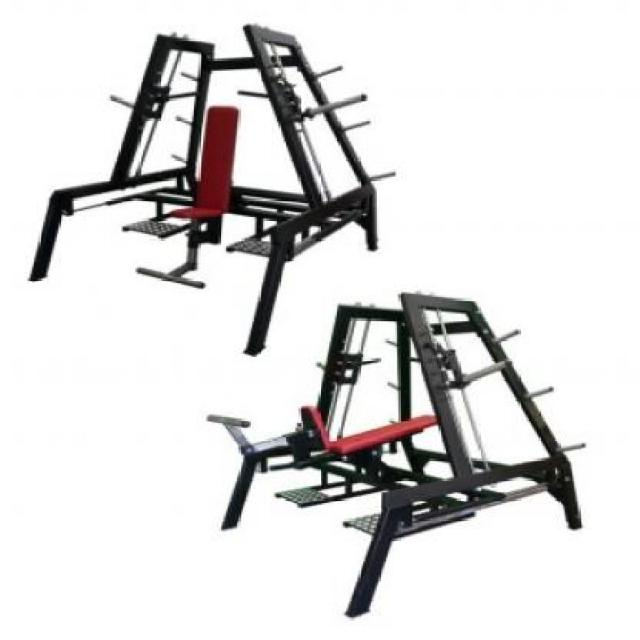Chest Press machine: (196, 277, 626, 606), (22, 5, 389, 357)
